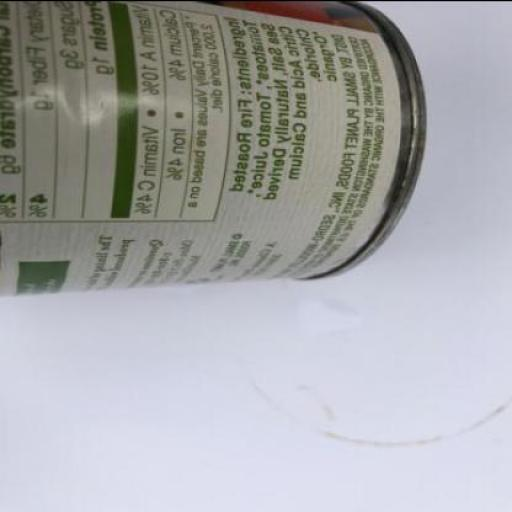metal: (2, 1, 428, 294)
